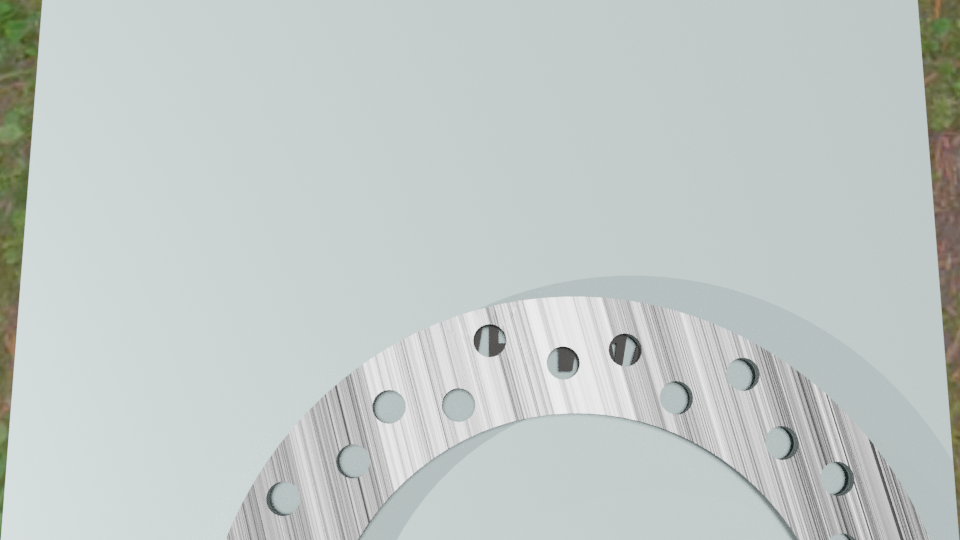yamaha_letters: (472, 323, 642, 377)
